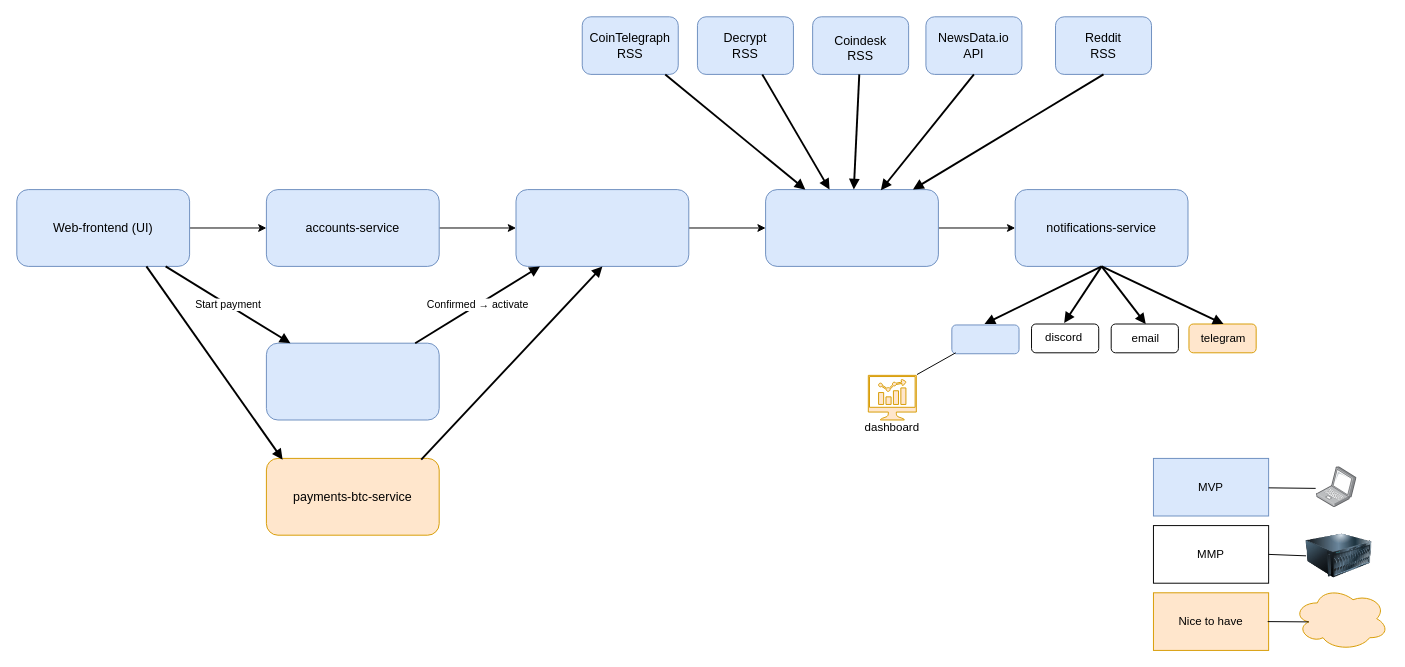
Image size: 1405x667. Some labels were removed from this diagram. The shapes that lost their labels are listed below. From the top down, each one's centre as x and y in pixels, then its label:
At point (602, 227): "subscriptions-service".
At point (851, 227): "reporter-service".
At point (985, 339): "frontend".
At point (352, 381): "payments-xmr-service".
